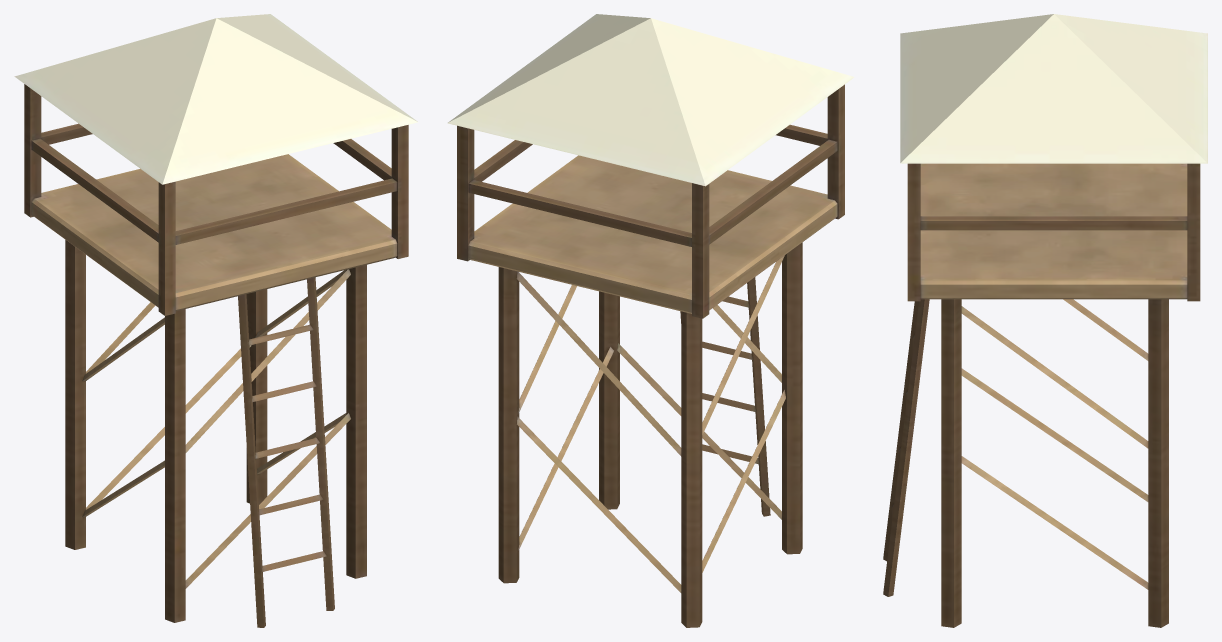
Rendered from watchtower-1-age1.glb.
3 renders of one model, left to right at view 1: azimuth 30°, elevation 25°; view 2: azimuth 150°, elevation 25°; view 3: azimuth 270°, elevation 25°, orthographic. The views are drawn at different scales.
Visible parts, largest first — view 1: watchtower-1-age1; view 2: watchtower-1-age1; view 3: watchtower-1-age1.
Boxes of the visible parts, x1,y1,x2,y2 form: watchtower-1-age1: (14, 14, 417, 627); watchtower-1-age1: (447, 14, 854, 627); watchtower-1-age1: (883, 14, 1207, 627).
Bounding box in the file's own units: 0.594 × 1.2 × 0.6269.
1 material, 1 textured.
